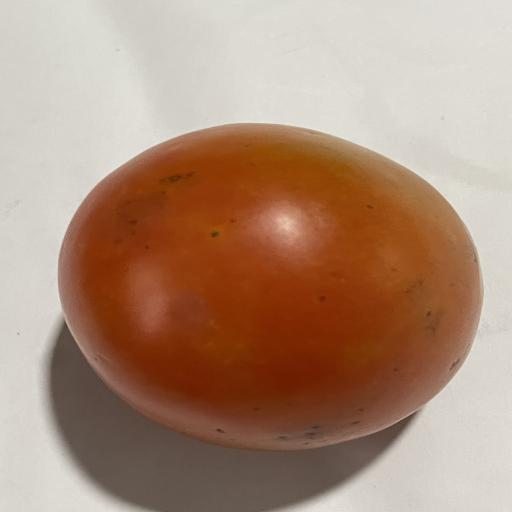unripe: (59, 124, 482, 450)
